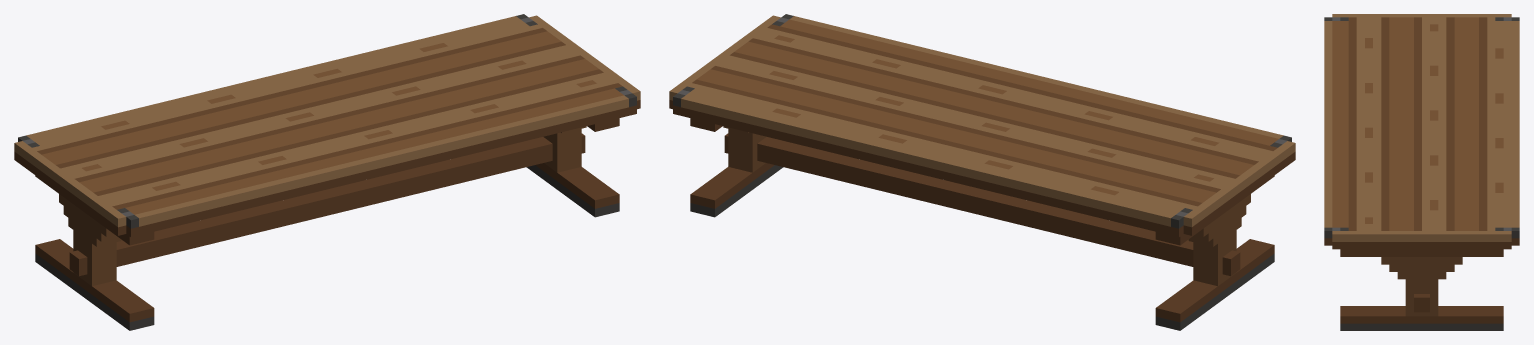
The model's file is communal_table_8x3.glb.
3 renders of one model, left to right at view 1: azimuth 30°, elevation 25°; view 2: azimuth 150°, elevation 25°; view 3: azimuth 270°, elevation 25°, orthographic. The views are drawn at different scales.
Parts seen in each view (by area): view 1: communal_table_8x3; view 2: communal_table_8x3; view 3: communal_table_8x3.
Part boxes in pixels (x1=…): communal_table_8x3: x1=14, y1=14, x2=640, y2=330; communal_table_8x3: x1=669, y1=14, x2=1295, y2=330; communal_table_8x3: x1=1324, y1=14, x2=1519, y2=330.
Size of the model in its own units: 8 by 1.75 by 3.
